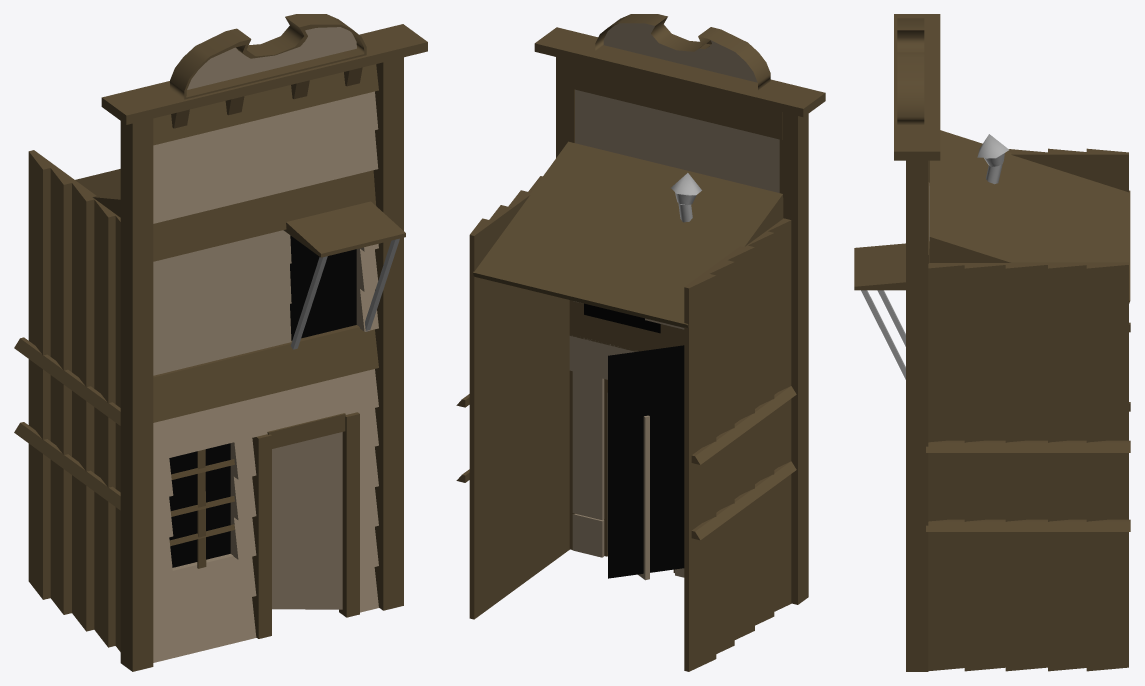
The model's file is SM_Building03.fbx.
The picture shows the model from 3 angles, left to right: view 1: azimuth 30°, elevation 25°; view 2: azimuth 150°, elevation 25°; view 3: azimuth 270°, elevation 25°; orthographic projection. The views are drawn at different scales.
Parts seen in each view (by area): view 1: Building03; view 2: Building03; view 3: Building03.
Boxes of the visible parts, left/top/right/bottom form: Building03: left=14, top=14, right=427, bottom=671; Building03: left=456, top=14, right=825, bottom=671; Building03: left=854, top=14, right=1130, bottom=671.
Size of the model in its own units: 472 by 910 by 400.
